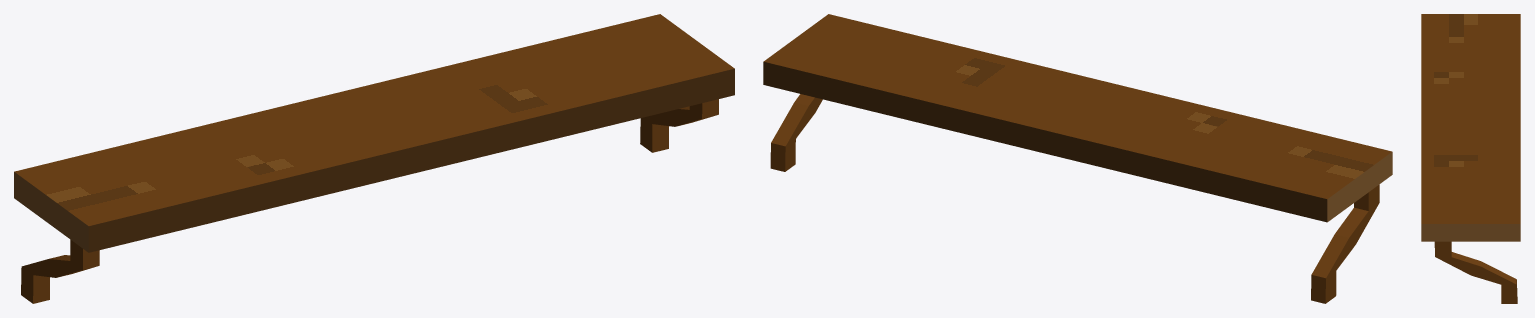
The model's file is bookshelf_919x03.gltf.
The picture shows the model from 3 angles, left to right: view 1: azimuth 30°, elevation 25°; view 2: azimuth 150°, elevation 25°; view 3: azimuth 270°, elevation 25°; orthographic projection. The views are drawn at different scales.
Parts seen in each view (by area): view 1: bookshelf_919x03; view 2: bookshelf_919x03; view 3: bookshelf_919x03.
Boxes of the visible parts, bbox=[...] form: bookshelf_919x03: bbox=[14, 14, 734, 303]; bookshelf_919x03: bbox=[763, 14, 1392, 303]; bookshelf_919x03: bbox=[1421, 14, 1520, 303].
Bounding box in the file's own units: 5 × 0.9081 × 1.
1 material, 1 textured.
